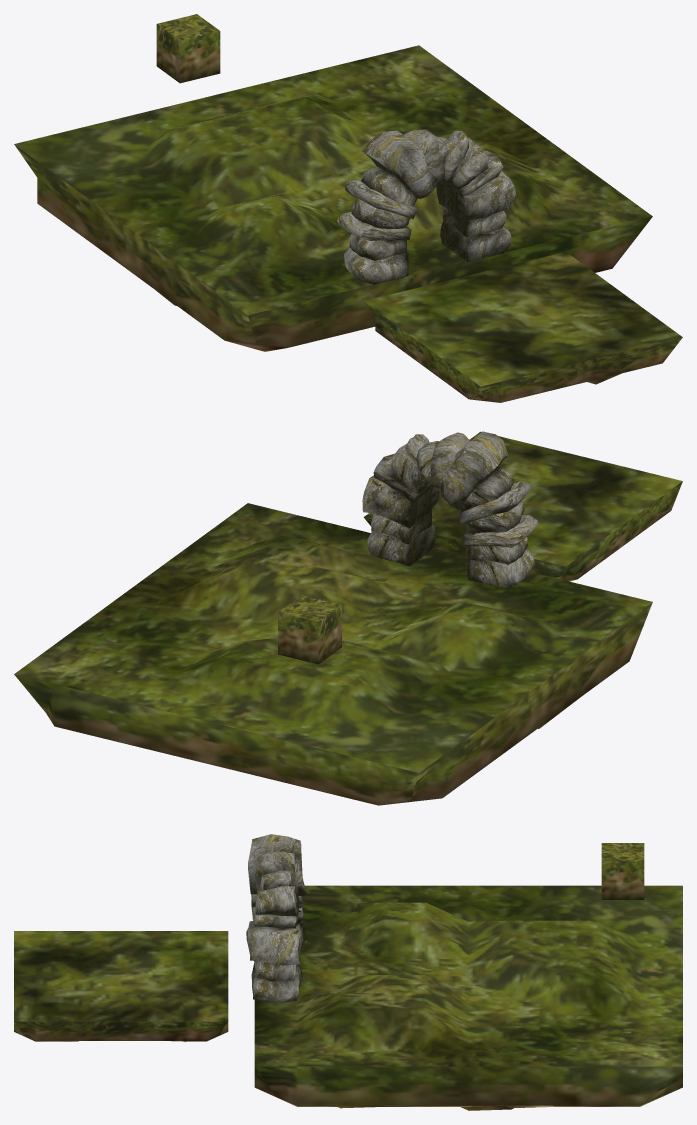
File: floor_test.glb
3 renders of one model, top to bottom at view 1: azimuth 30°, elevation 25°; view 2: azimuth 150°, elevation 25°; view 3: azimuth 270°, elevation 25°, orthographic. The views are drawn at different scales.
Visible parts, largest first — view 1: garden_floor_2-col, garden_floor_3-col, gate.015-col, gardencube-col; view 2: garden_floor_2-col, gate.015-col, garden_floor_3-col, gardencube-col; view 3: garden_floor_2-col, garden_floor_3-col, gate.015-col, gardencube-col.
Boxes of the visible parts, <box> form: garden_floor_2-col: <box>14,45,652,351</box>; garden_floor_3-col: <box>363,252,682,402</box>; gate.015-col: <box>337,129,515,284</box>; gardencube-col: <box>156,14,220,83</box>; garden_floor_2-col: <box>14,503,652,805</box>; gate.015-col: <box>362,431,538,588</box>; garden_floor_3-col: <box>363,431,682,581</box>; gardencube-col: <box>278,595,341,664</box>; garden_floor_2-col: <box>254,885,682,1110</box>; garden_floor_3-col: <box>14,931,228,1041</box>; gate.015-col: <box>246,834,306,1002</box>; gardencube-col: <box>601,843,644,899</box>.
Bounding box in the file's own units: 10 × 6.1 × 15.61.
Materials: 5 (5 with a texture image).
